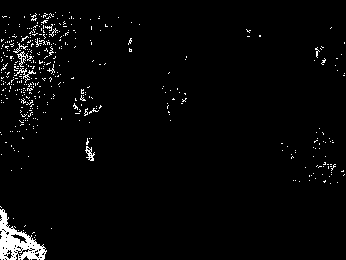person: (74, 86, 103, 163)
